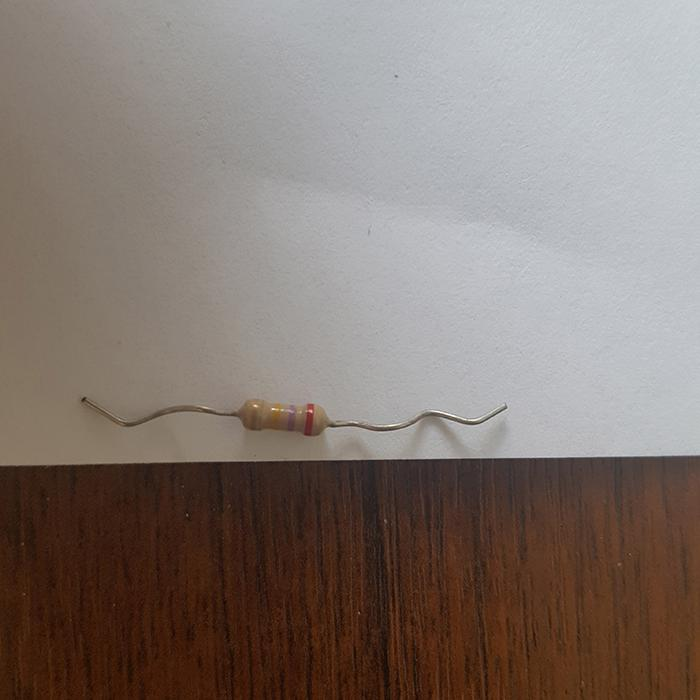resistor: (235, 398, 328, 435)
